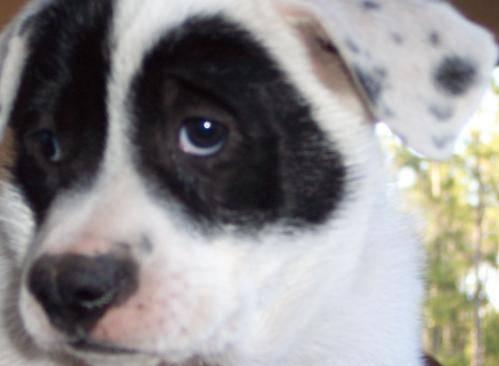dog: (0, 0, 497, 365)
